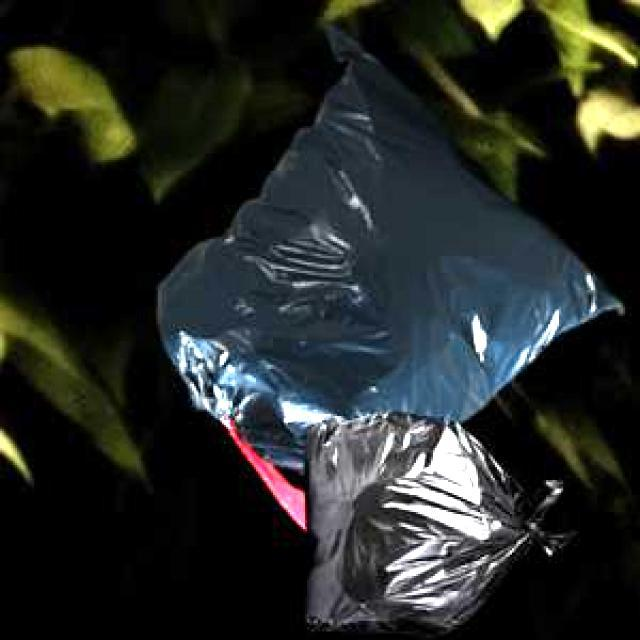Garbage_Bag: (155, 22, 620, 528), (300, 408, 568, 632)
